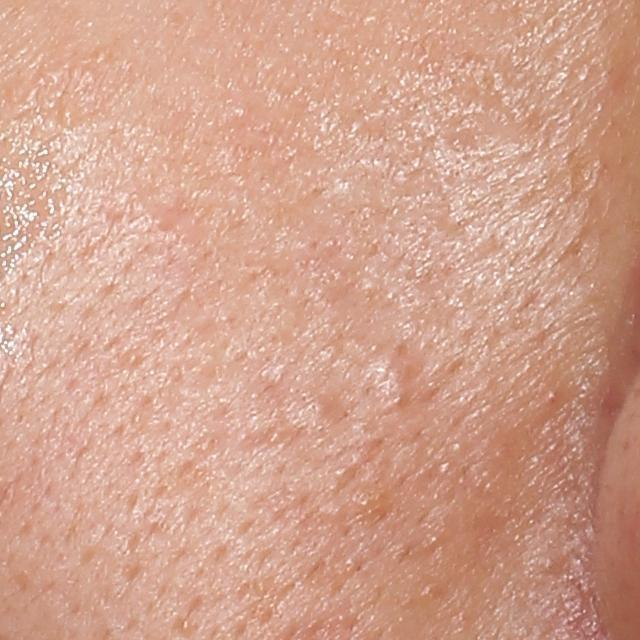comedo: (58, 103, 84, 130)
